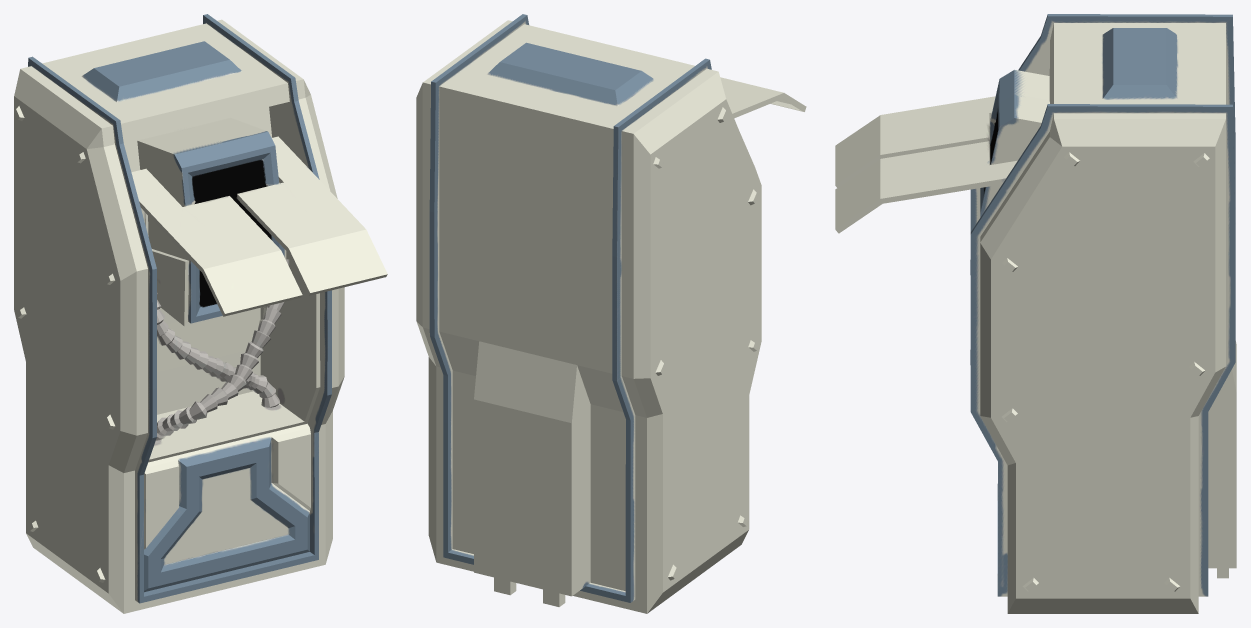
Rendered from Cablebox_open_joined.fbx.
3 renders of one model, left to right at view 1: azimuth 30°, elevation 25°; view 2: azimuth 150°, elevation 25°; view 3: azimuth 270°, elevation 25°, orthographic. The views are drawn at different scales.
Visible parts, largest first — view 1: node_id4; view 2: node_id4; view 3: node_id4.
Boxes of the visible parts, <box> form: node_id4: <box>14,14,387,613</box>; node_id4: <box>416,14,806,613</box>; node_id4: <box>835,14,1236,613</box>.
Size of the model in its own units: 0.2587 by 0.512 by 0.3684.
1 material, 1 textured.
